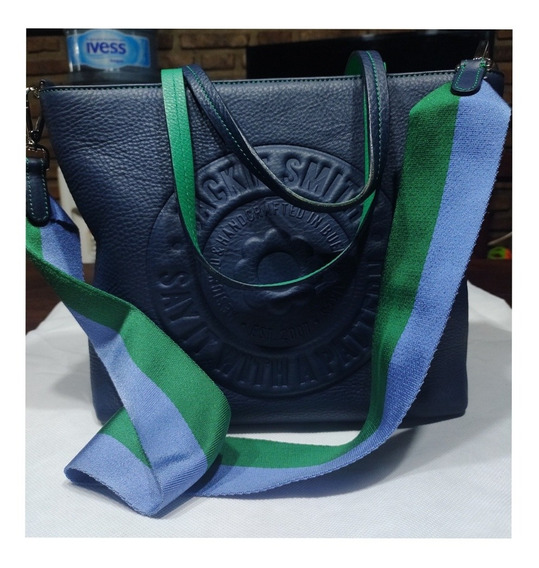cartera: (31, 50, 505, 438)
